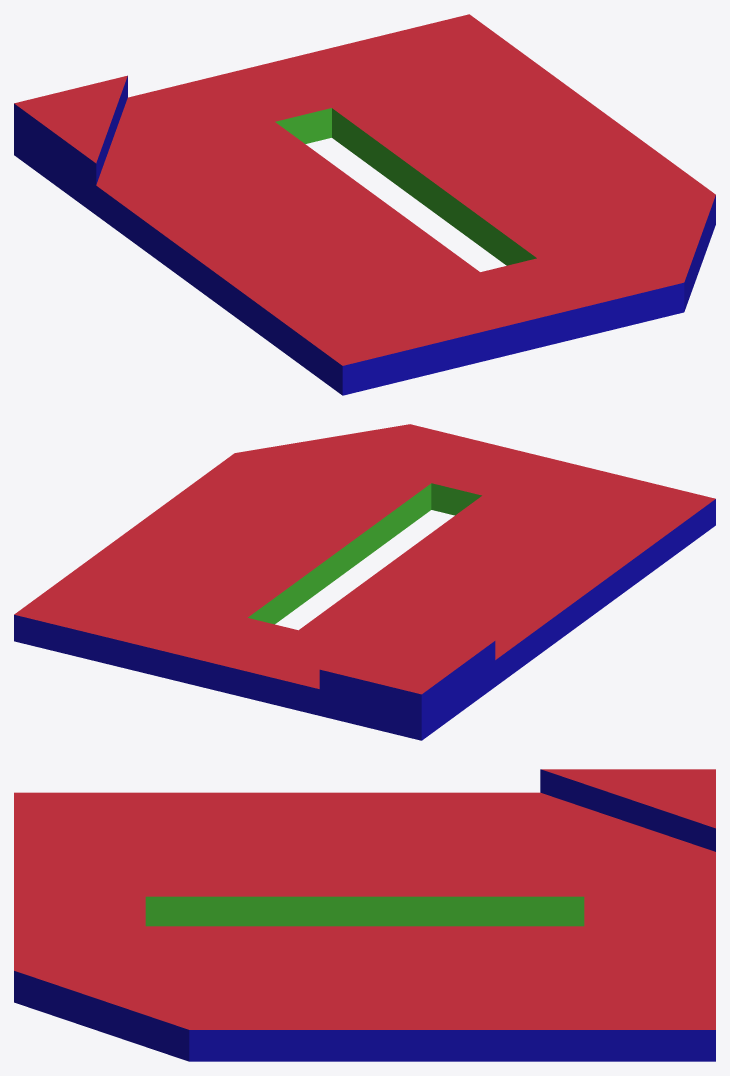
File: CutCorner80x100.fbx
The picture shows the model from 3 angles, top to bottom: view 1: azimuth 30°, elevation 25°; view 2: azimuth 150°, elevation 25°; view 3: azimuth 270°, elevation 25°; orthographic projection. The views are drawn at different scales.
Parts seen in each view (by area): view 1: Cube; view 2: Cube; view 3: Cube.
Boxes of the visible parts, x1,y1,x2,y2 form: Cube: (14, 14, 715, 395); Cube: (14, 424, 715, 740); Cube: (14, 769, 715, 1061).
Bounding box in the file's own units: 8000 × 869 × 10000.
